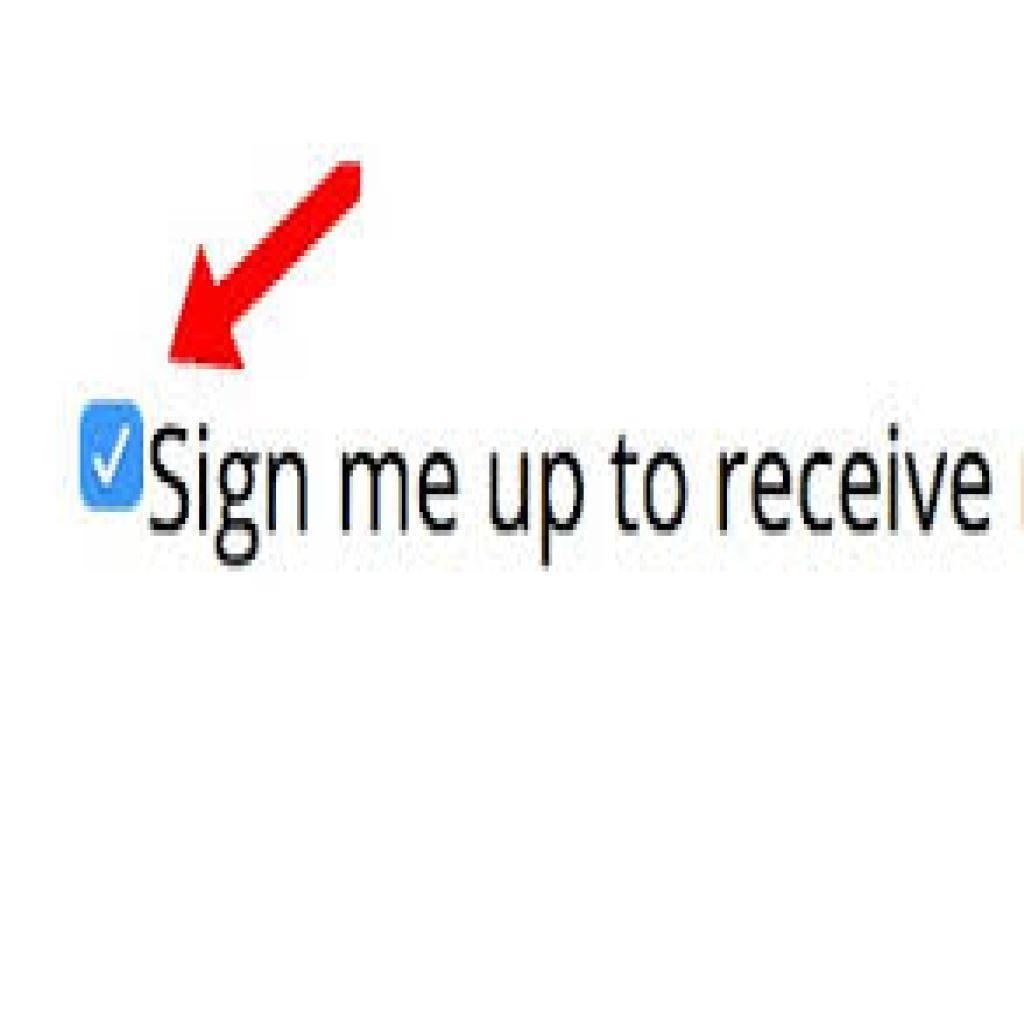checkbox: (80, 400, 146, 514)
label: (150, 421, 995, 569)
